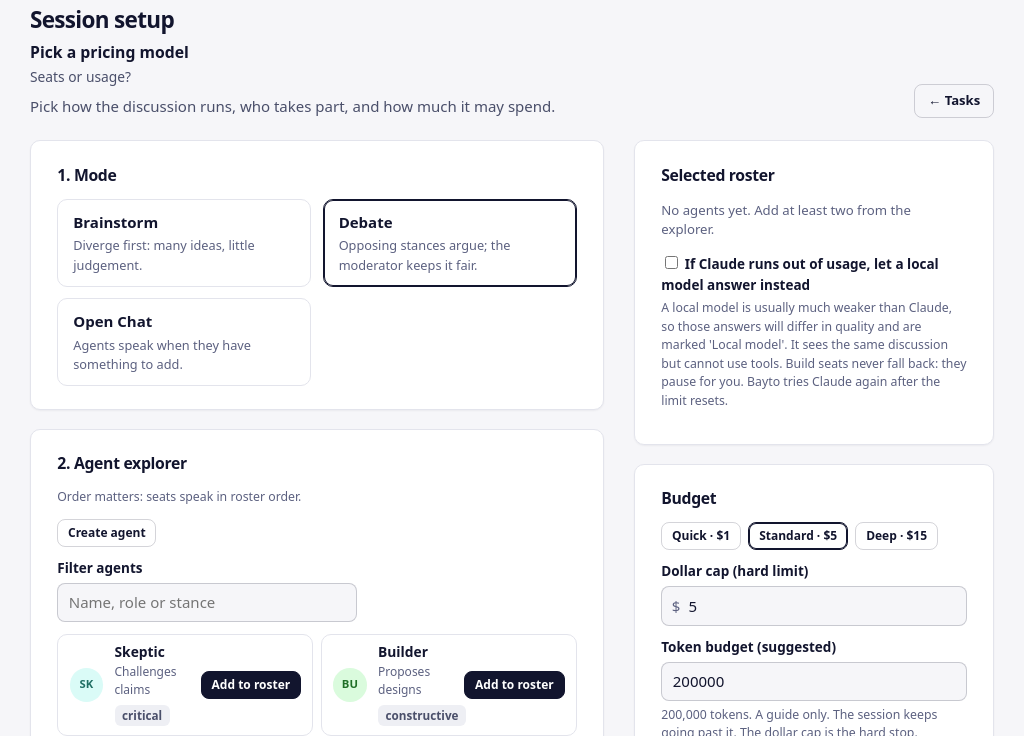
Test: UX-12 setup start › shows the task, preselects Debate, names Open Chat plainly and blocks Start with a reason
Expected: the text "Pick a pricing model" is shown, 30,40 -> 189,62
Expected: the text "Seats or usage?" is shown, 30,67 -> 131,86
Click the button "Add to roster" below "Skeptic": (251, 685) 201,671 -> 301,699
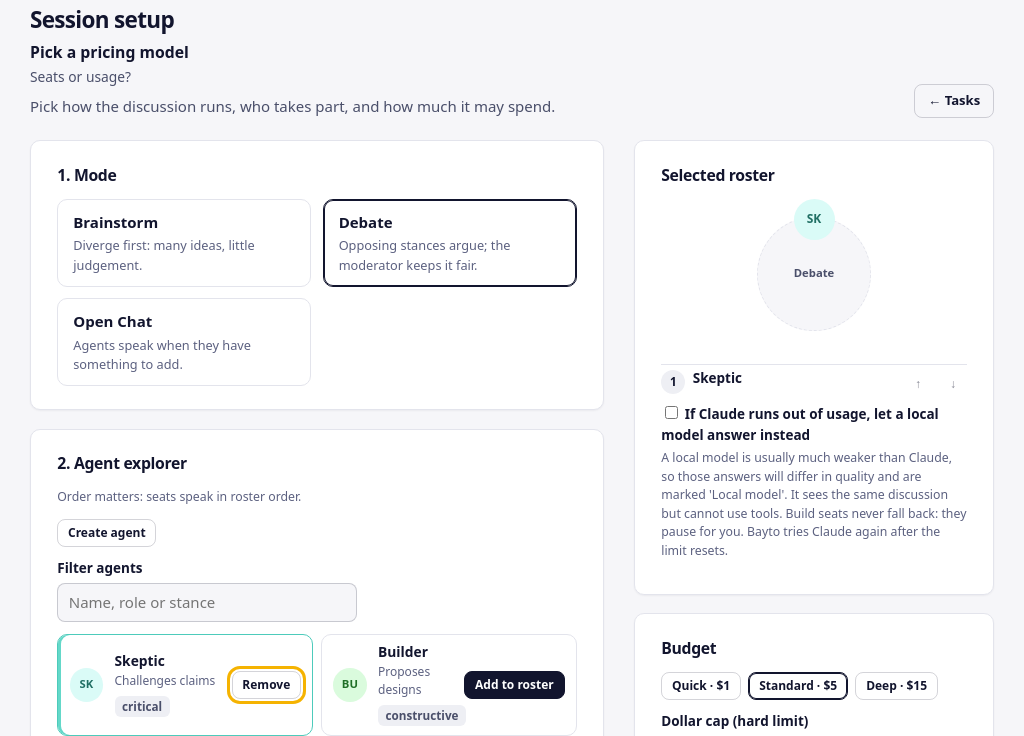
Click the button "Add to roster": (514, 685) 464,671 -> 564,699
(page scrolled)
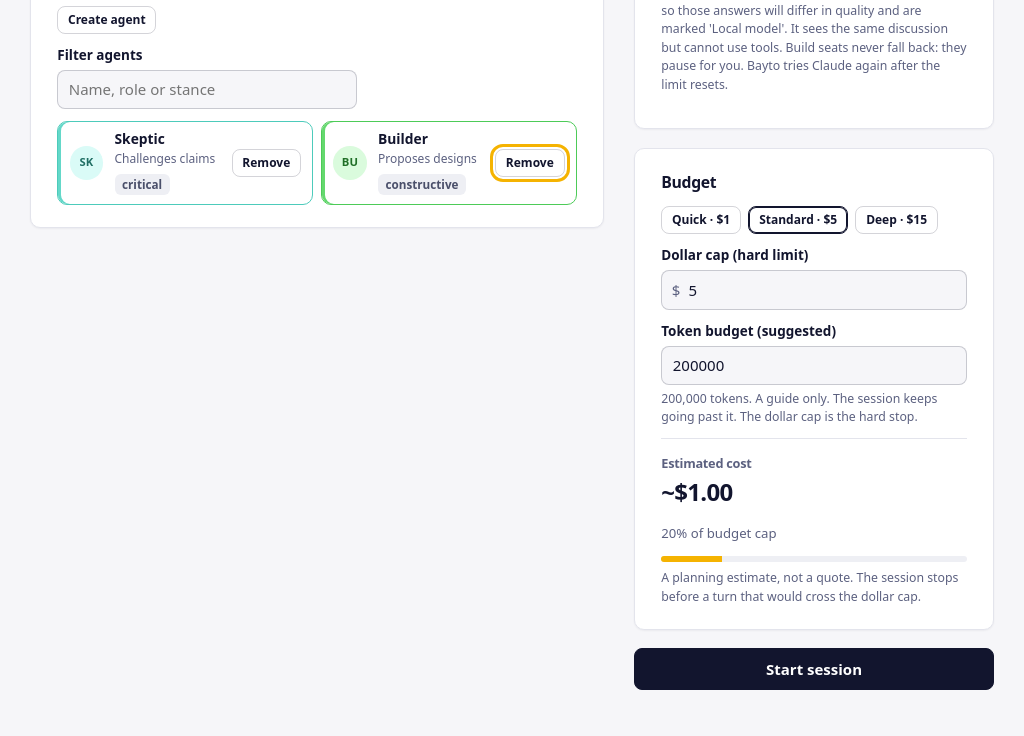
Now the button "Start session" is enabled, box 634,648 -> 994,690
